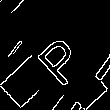P_NW: (25, 24, 85, 86)
